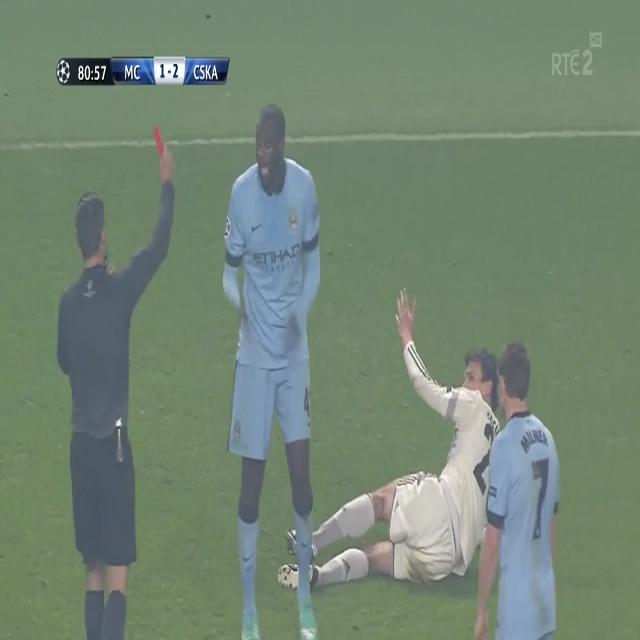Player: (277, 285, 502, 592), (221, 101, 326, 640), (472, 335, 562, 640)
Referee: (53, 122, 177, 640)
